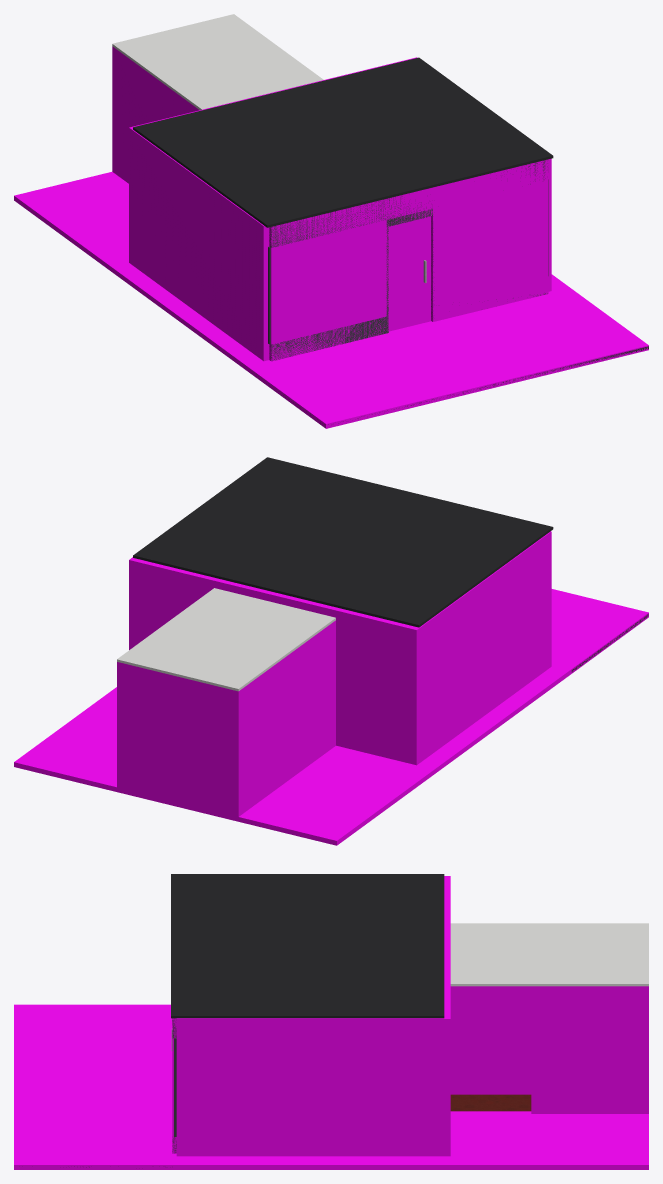
The model's file is kitchen.glb.
The picture shows the model from 3 angles, top to bottom: view 1: azimuth 30°, elevation 25°; view 2: azimuth 150°, elevation 25°; view 3: azimuth 270°, elevation 25°; orthographic projection.
Visible parts, largest first — view 1: hall_static, col_floor, col_wall_h_left, col_wall_front_right, col_wall_front_left, kitchen_static, col_front_door, col_wall_k_left, col_wall_front_header; view 2: hall_static, col_floor, col_wall_h_left, col_wall_k_back, col_wall_k_left, kitchen_static, col_wall_div_1, col_wall_div_3; view 3: col_floor, hall_static, col_wall_h_right, col_wall_k_right_back, kitchen_static, col_wall_k_right_front, col_wall_k_back, col_wall_div_3.
Boxes of the visible parts, x1,y1,x2,y2 form: hall_static: (133, 57, 648, 424); col_floor: (14, 172, 648, 428); col_wall_h_left: (129, 126, 269, 361); col_wall_front_right: (431, 159, 548, 321); col_wall_front_left: (269, 198, 388, 361); kitchen_static: (112, 14, 323, 109); col_front_door: (389, 216, 430, 331); col_wall_k_left: (112, 47, 199, 183); col_wall_front_header: (389, 187, 432, 225); hall_static: (133, 457, 648, 672); col_floor: (14, 589, 648, 845); col_wall_h_left: (411, 531, 551, 765); col_wall_k_back: (117, 662, 241, 816); col_wall_k_left: (233, 620, 335, 816); kitchen_static: (117, 588, 335, 691); col_wall_div_1: (328, 606, 413, 763); col_wall_div_3: (134, 559, 263, 645); col_floor: (14, 1004, 648, 1169); hall_static: (74, 874, 444, 1167); col_wall_h_right: (176, 1016, 450, 1156); col_wall_k_right_back: (531, 986, 642, 1113); kitchen_static: (450, 923, 648, 1111); col_wall_k_right_front: (450, 986, 531, 1094); col_wall_k_back: (642, 986, 648, 1113); col_wall_div_3: (444, 953, 450, 1015).
Bounding box in the file's own units: 7 × 2.95 × 11.72.
Materials: 50 (23 with a texture image).
